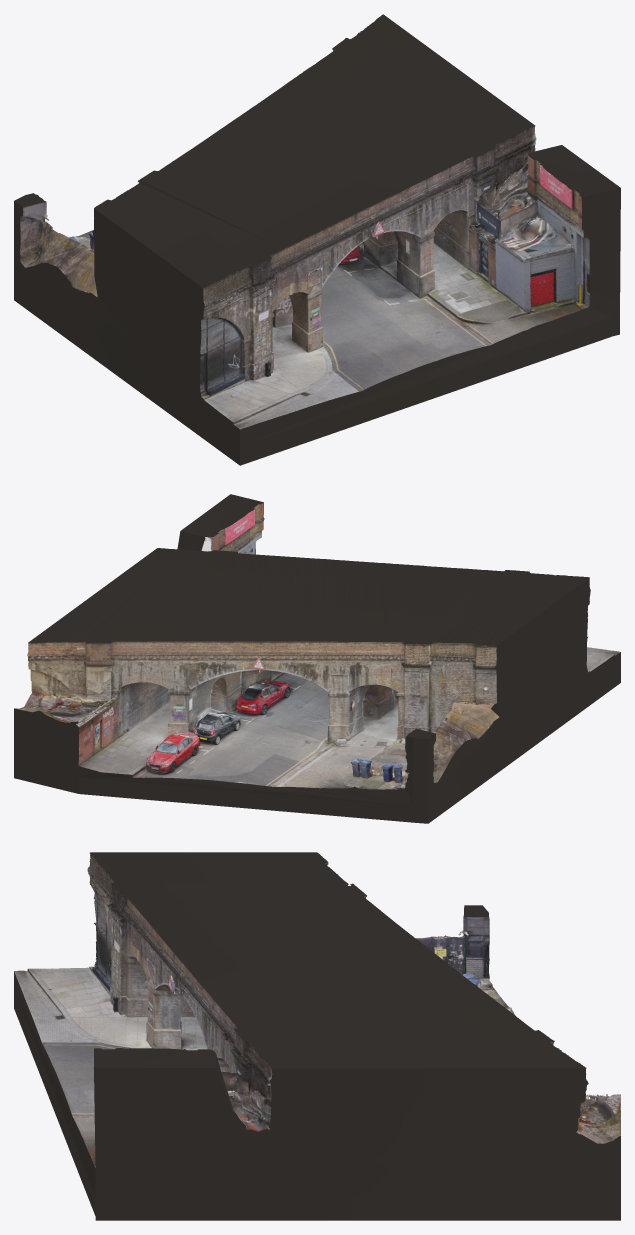
The model's file is rick_roll_bridge.glb.
3 renders of one model, top to bottom at view 1: azimuth 30°, elevation 25°; view 2: azimuth 150°, elevation 25°; view 3: azimuth 270°, elevation 25°, orthographic. The views are drawn at different scales.
Parts seen in each view (by area): view 1: Object_2; view 2: Object_2; view 3: Object_2.
Boxes of the visible parts, x1,y1,x2,y2 form: Object_2: (14,14,620,465); Object_2: (14,494,620,823); Object_2: (14,852,620,1220).
Bounding box in the file's own units: 25.95 × 8.9 × 31.37.
1 material, 1 textured.
